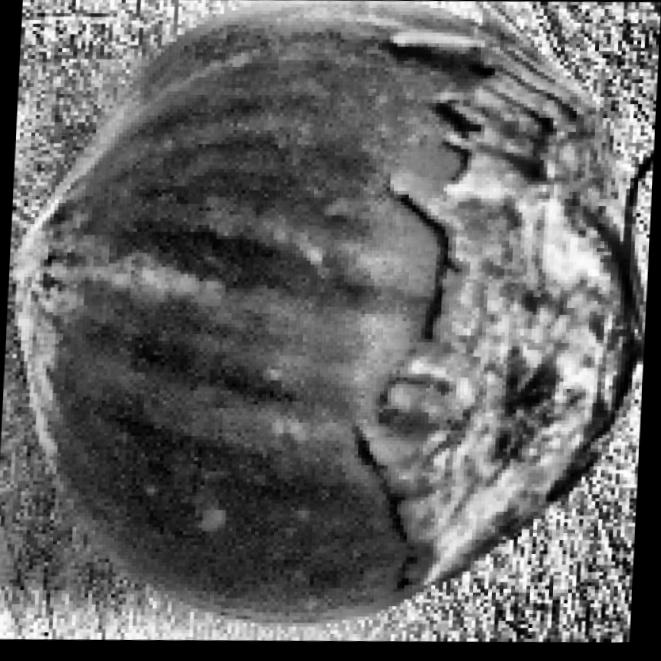damagedHazelnut: (0, 0, 661, 658)
